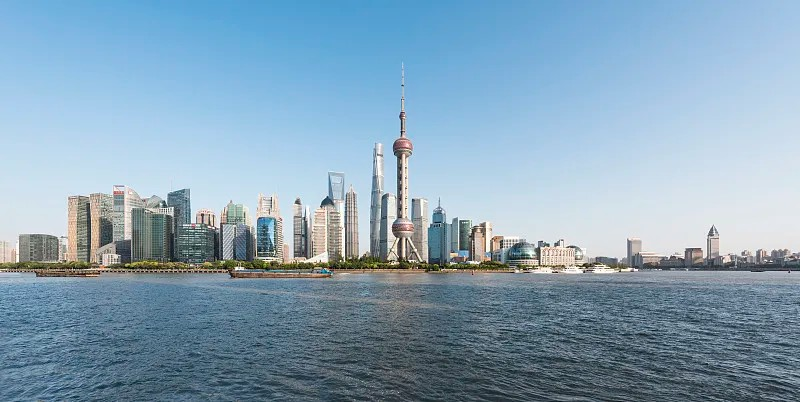Oriental: (387, 62, 424, 263)
